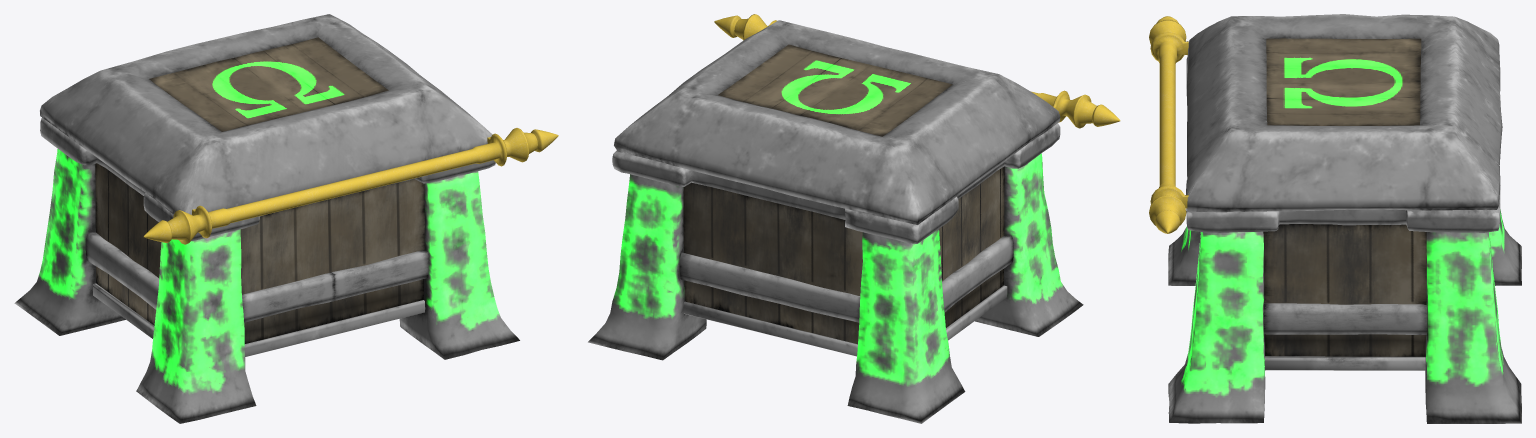
Rendered from god-of-war-chest.glb.
3 views of the same model, side by side, from view 1: azimuth 30°, elevation 25°; view 2: azimuth 150°, elevation 25°; view 3: azimuth 270°, elevation 25° (orthographic). The views are drawn at different scales.
Visible parts, largest first — view 1: Object_2, Object_3; view 2: Object_2, Object_3; view 3: Object_2, Object_3.
Part boxes in pixels (x1,y1,x2,y2): Object_2: (14, 14, 519, 423); Object_3: (85, 128, 558, 356); Object_2: (588, 20, 1083, 423); Object_3: (679, 14, 1120, 356); Object_2: (1168, 14, 1521, 423); Object_3: (1149, 16, 1427, 370).
Bounding box in the file's own units: 1.65 × 0.9336 × 1.21.
2 materials, 2 textured.
